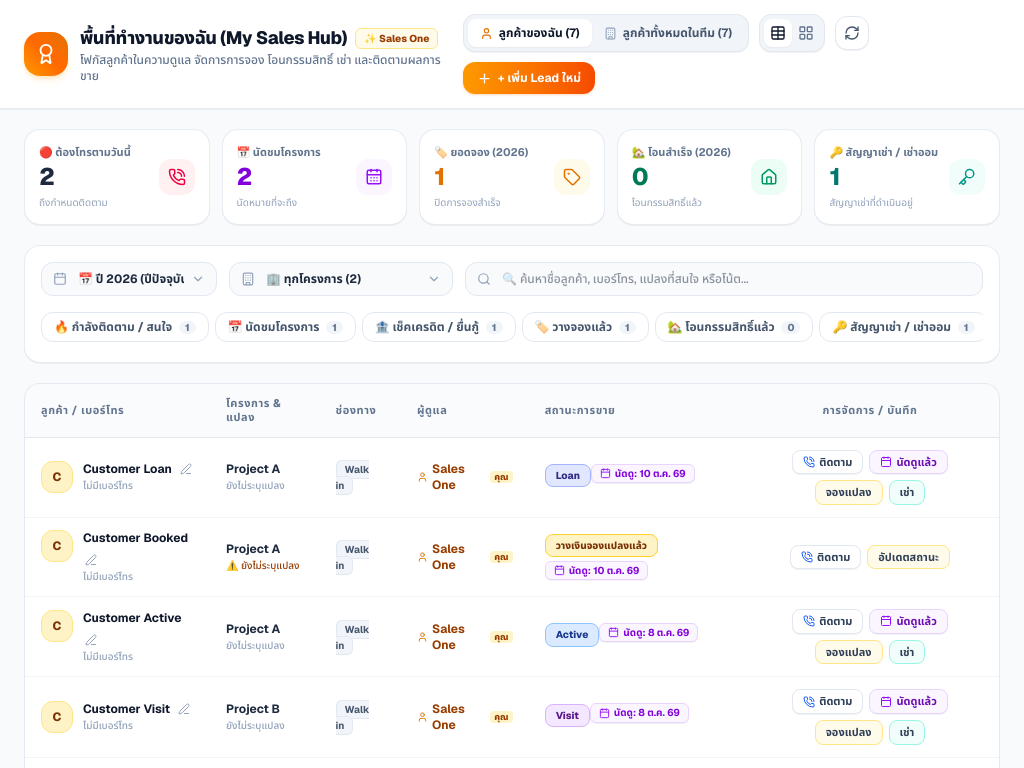
Test: Sales Hub actions › due KPI and its resulting rows share the same predicate and preserve project selection
The image size is (1024, 768).
Expected: the text "Customer Active" is shown, [83,610,181,626]
Click the button "🔴 ต้องโทรตามวันนี้ 2 ถึงกำหนดติดตาม": (117, 177) [24,129,210,224]
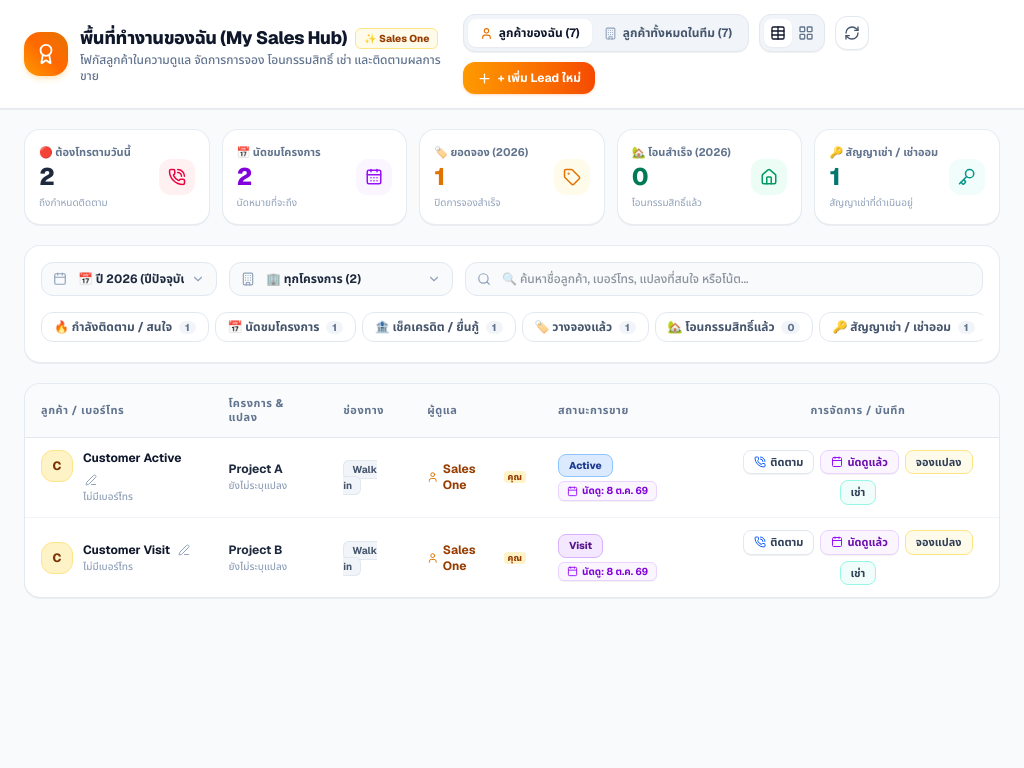
Expected: the number of rows is 3, [25,384,999,437]; [25,437,999,518]; [25,518,999,597]
Now the text "Customer Loan" is gone
Select "Project A" in the 2nd dropdown: (341, 278) [229,262,453,296]
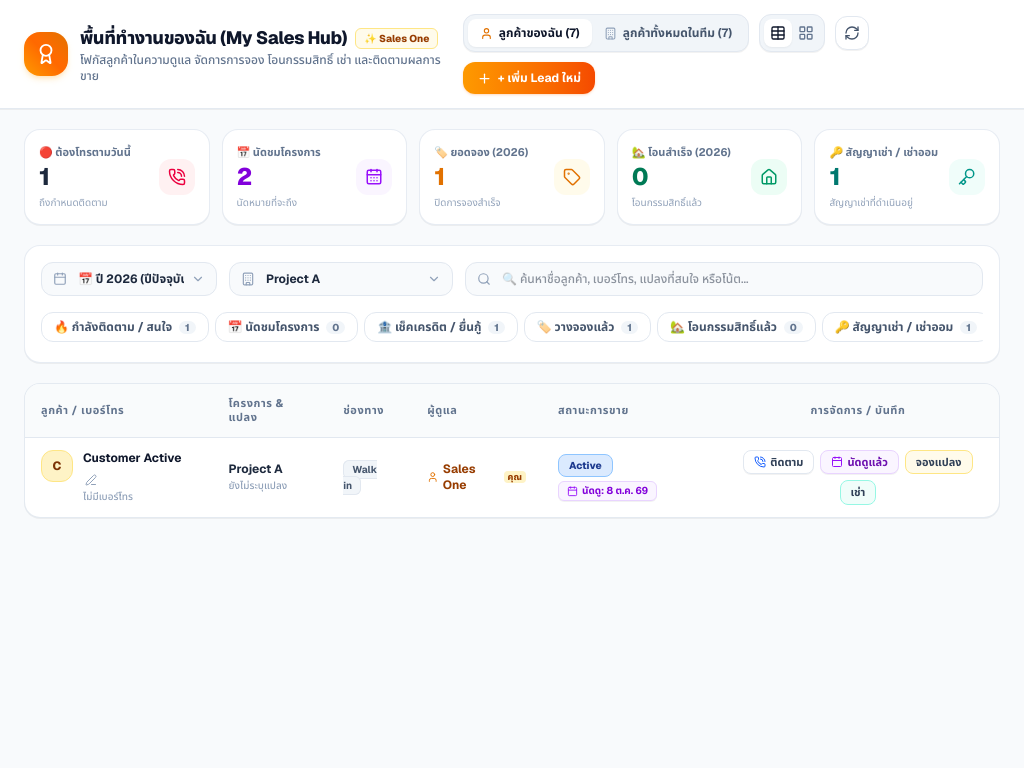
Expected: the number of rows is 2, [25,384,999,437]; [25,437,999,517]
Now the button "🔴 ต้องโทรตามวันนี้ 1 ถึงกำหนดติดตาม" is shown
Click the button "🔴 ต้องโทรตามวันนี้ 1 ถึงกำหนดติดตาม": (117, 177) [24,129,210,224]
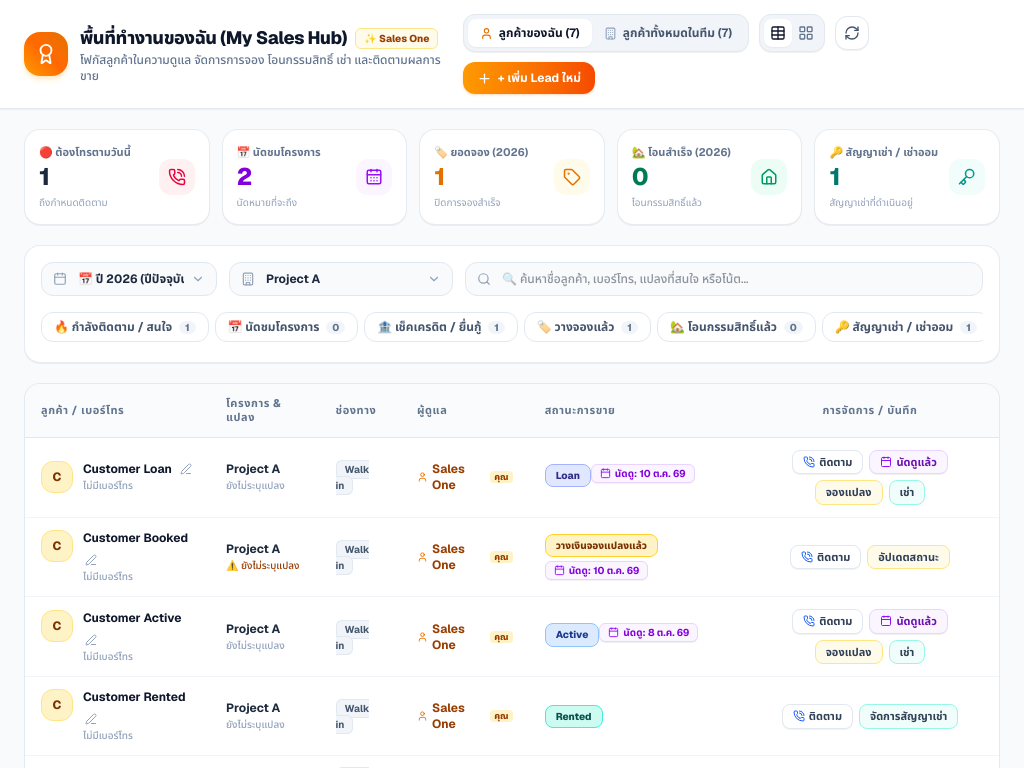
Expected: the text "Customer Visit" is not shown
Now the text "Customer Loan" is shown, box [83,462,172,478]
